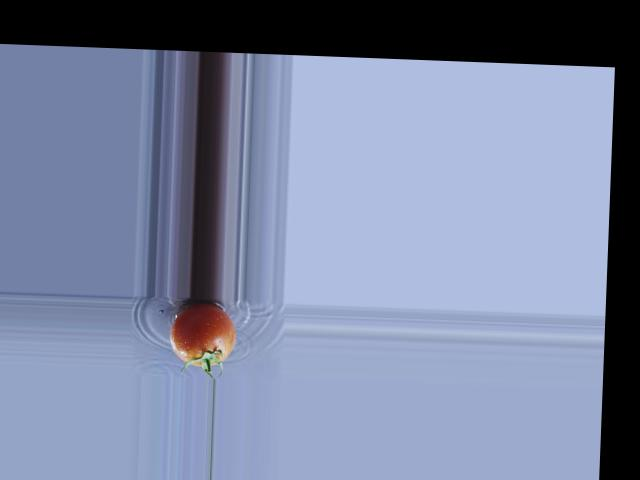tomato: (169, 301, 236, 366)
